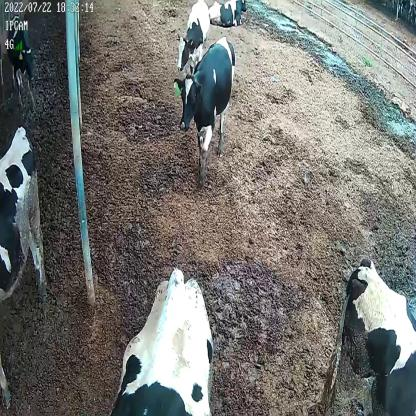cow: (172, 34, 236, 192), (8, 13, 38, 113), (177, 2, 211, 72), (207, 0, 248, 24)
